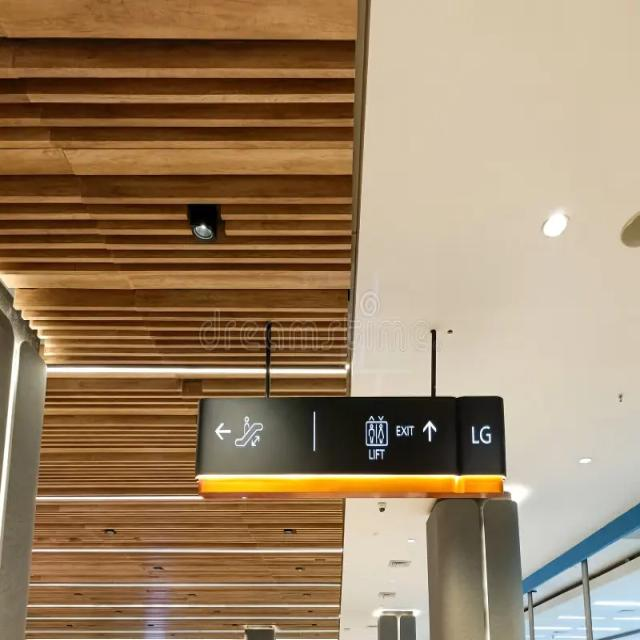lift_icon: (364, 413, 390, 448)
